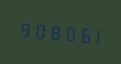eight: (46, 18, 59, 43)
nine: (17, 16, 30, 41)
one: (88, 22, 101, 47)
six: (74, 21, 87, 46)
zero: (31, 17, 44, 42), (60, 20, 73, 45)
